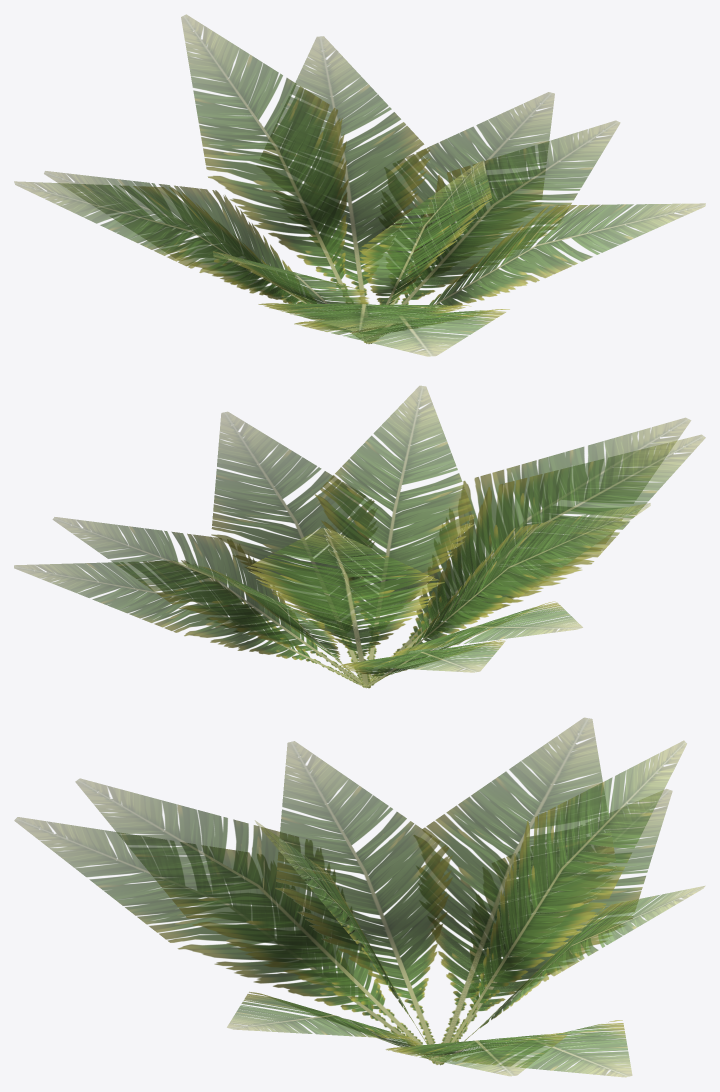
The model's file is bush_c.glb.
3 views of the same model, one above another, from view 1: azimuth 30°, elevation 25°; view 2: azimuth 150°, elevation 25°; view 3: azimuth 270°, elevation 25° (orthographic). The views are drawn at different scales.
Visible parts, largest first — view 1: bush_c; view 2: bush_c; view 3: bush_c.
Part boxes in pixels (<box>): bush_c: <box>14,14,705,356</box>; bush_c: <box>14,386,705,688</box>; bush_c: <box>14,718,704,1077</box>.
Bounding box in the file's own units: 1.77 × 0.7723 × 1.71.
1 material, 1 textured.
